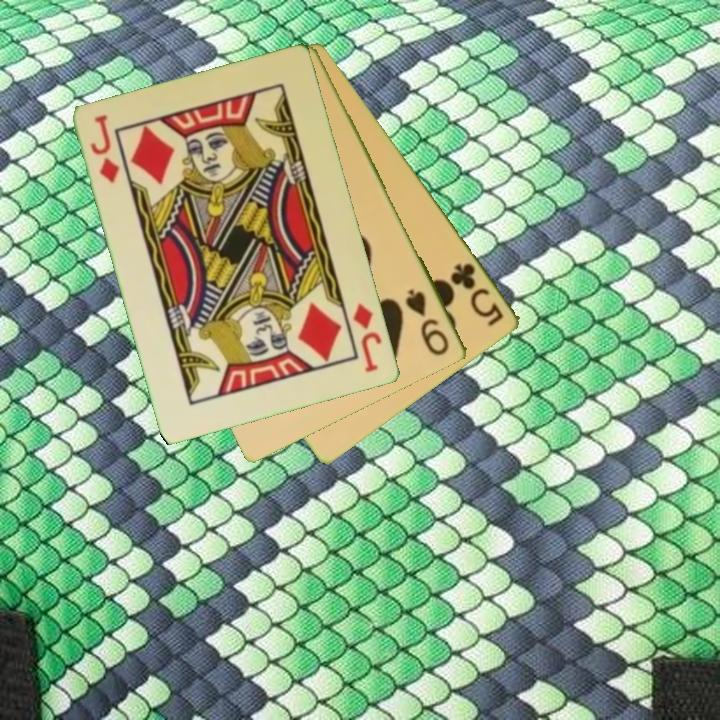5c: (447, 259, 507, 330)
9s: (402, 285, 453, 359)
Jd: (349, 300, 385, 376), (87, 111, 123, 187)
